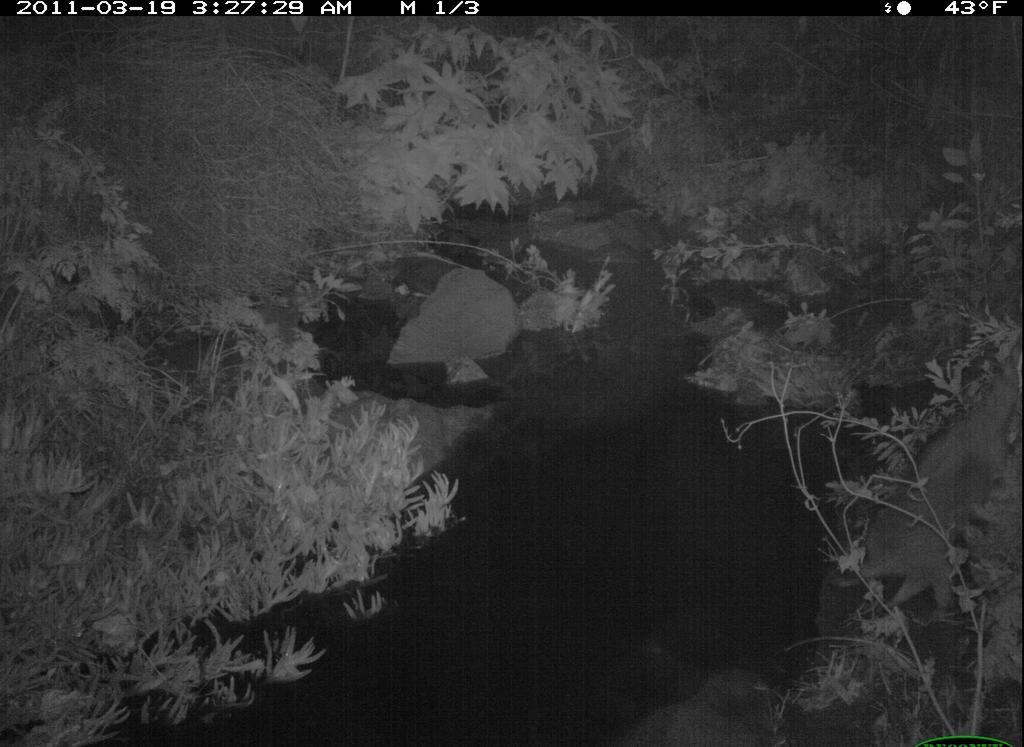raccoon: (826, 350, 1023, 628)
